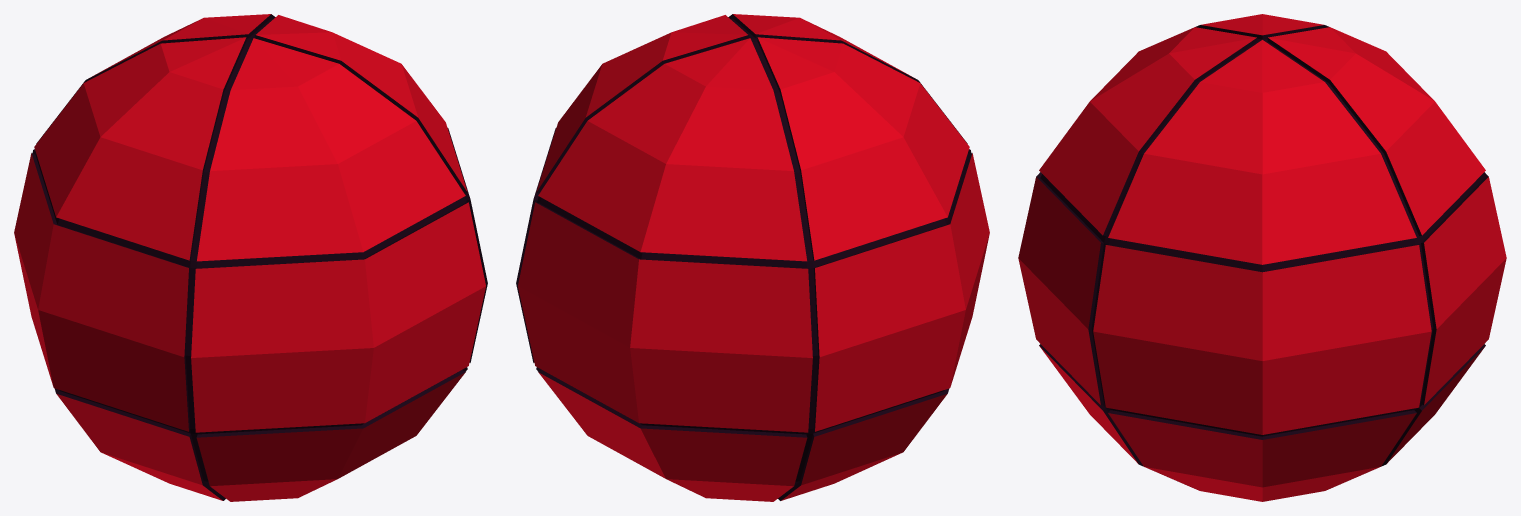
File: Basketball_01.fbx
3 renders of one model, left to right at view 1: azimuth 30°, elevation 25°; view 2: azimuth 150°, elevation 25°; view 3: azimuth 270°, elevation 25°, orthographic.
Visible parts, largest first — view 1: Basketball_01; view 2: Basketball_01; view 3: Basketball_01.
Part boxes in pixels (left/top/right/bottom): Basketball_01: left=14, top=14, right=487, bottom=501; Basketball_01: left=516, top=14, right=989, bottom=501; Basketball_01: left=1018, top=14, right=1506, bottom=501.
Size of the model in its own units: 4.69 by 4.67 by 4.69.
